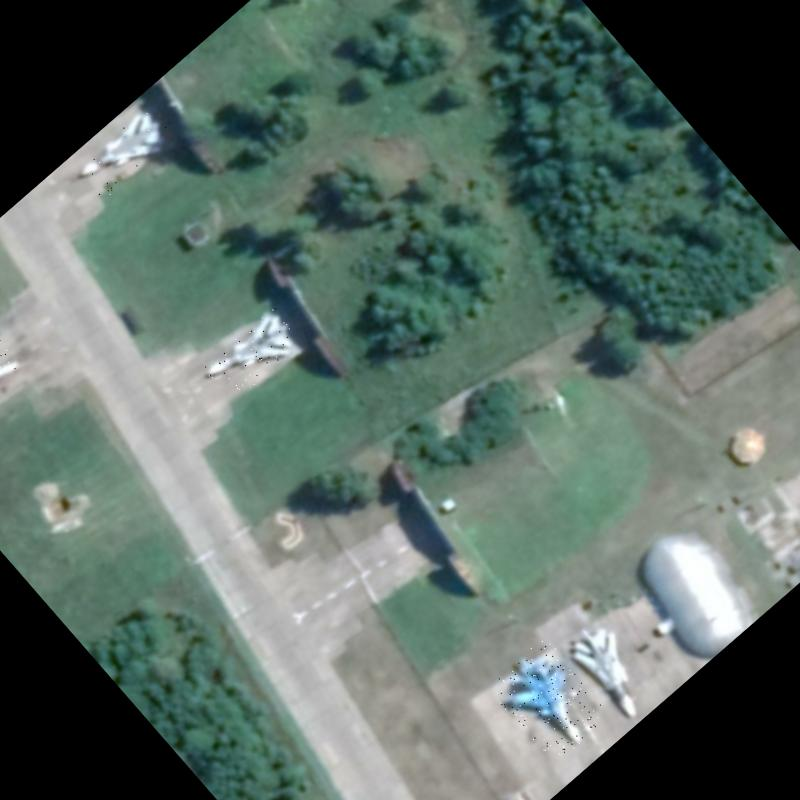A19: (486, 635, 614, 765)
A20: (562, 611, 668, 724), (201, 303, 306, 403), (73, 102, 178, 200), (0, 329, 24, 430)
